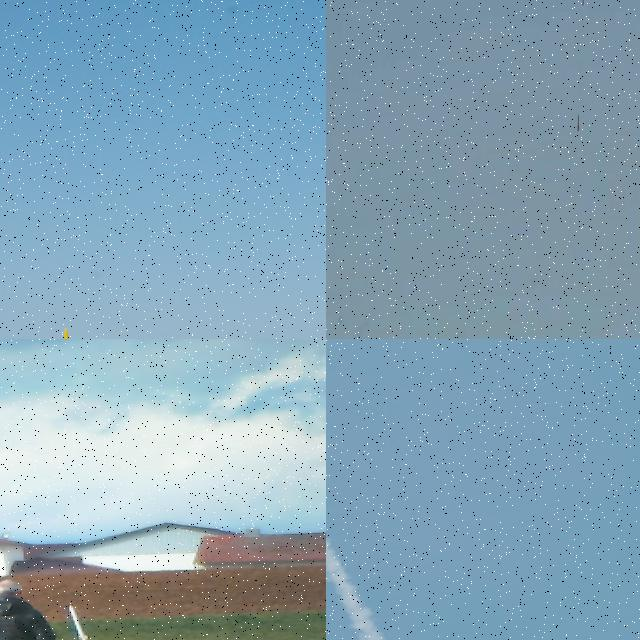Rocket: (66, 603, 90, 640), (576, 114, 580, 132)
